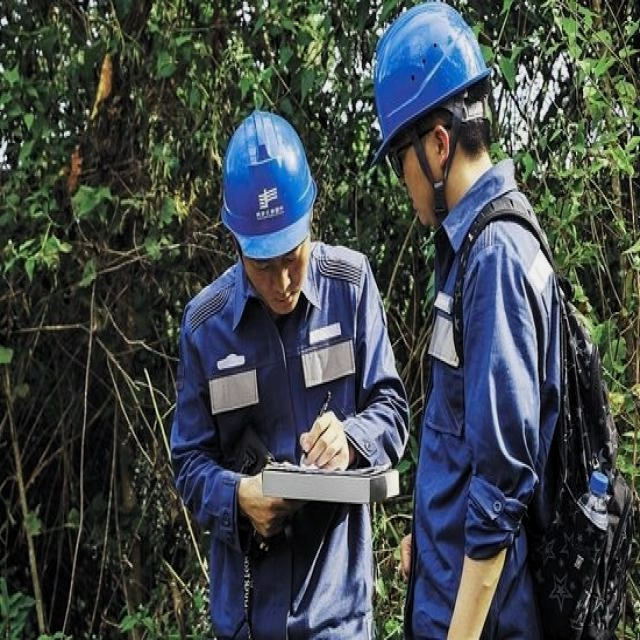Con_Casco: (377, 2, 494, 226), (221, 107, 323, 311)
